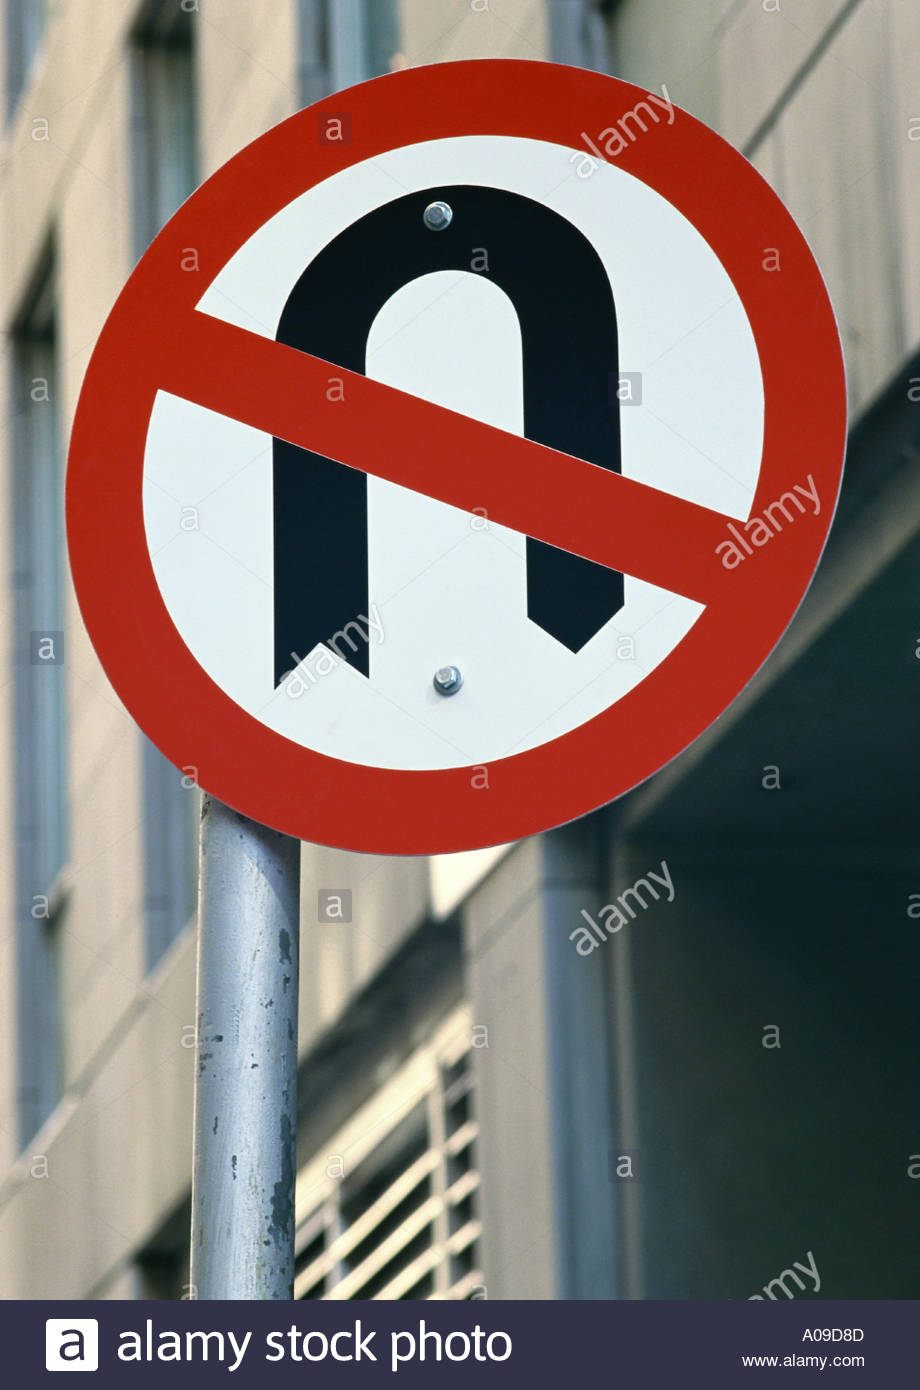No_u_turn: (66, 59, 846, 857)
